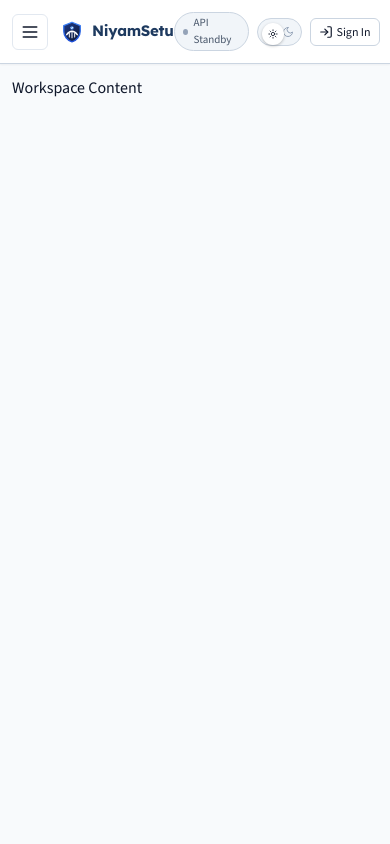
Test case: Mobile Responsiveness & Viewport Hardening › Mobile Navigation Drawer & App Shell › AppLayout coordinates header, main landmark, and mobile drawer
Check: the text "Workspace Content" is shown, box [12,77,142,98]
Note: Open mobile nav from header
Step 1. Click the button named "Open navigation menu" → (30, 32), box [12,14,48,50]
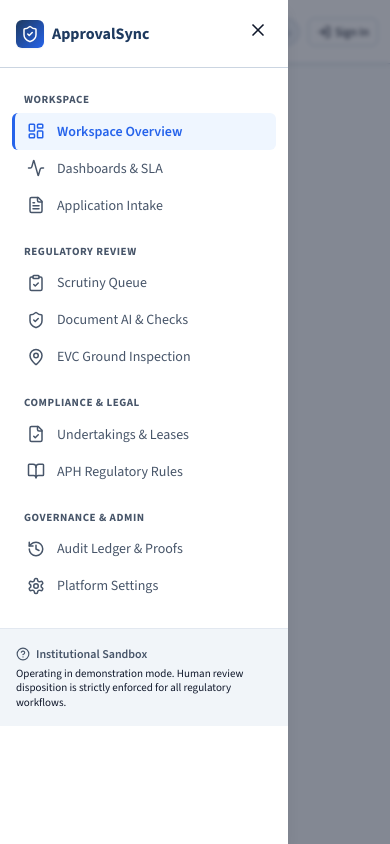
Check: the dialog named "Mobile navigation" is shown
